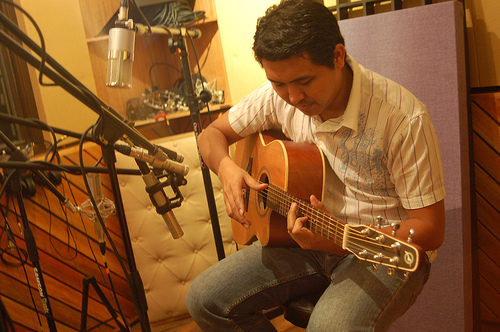guitar: (226, 124, 427, 280)
